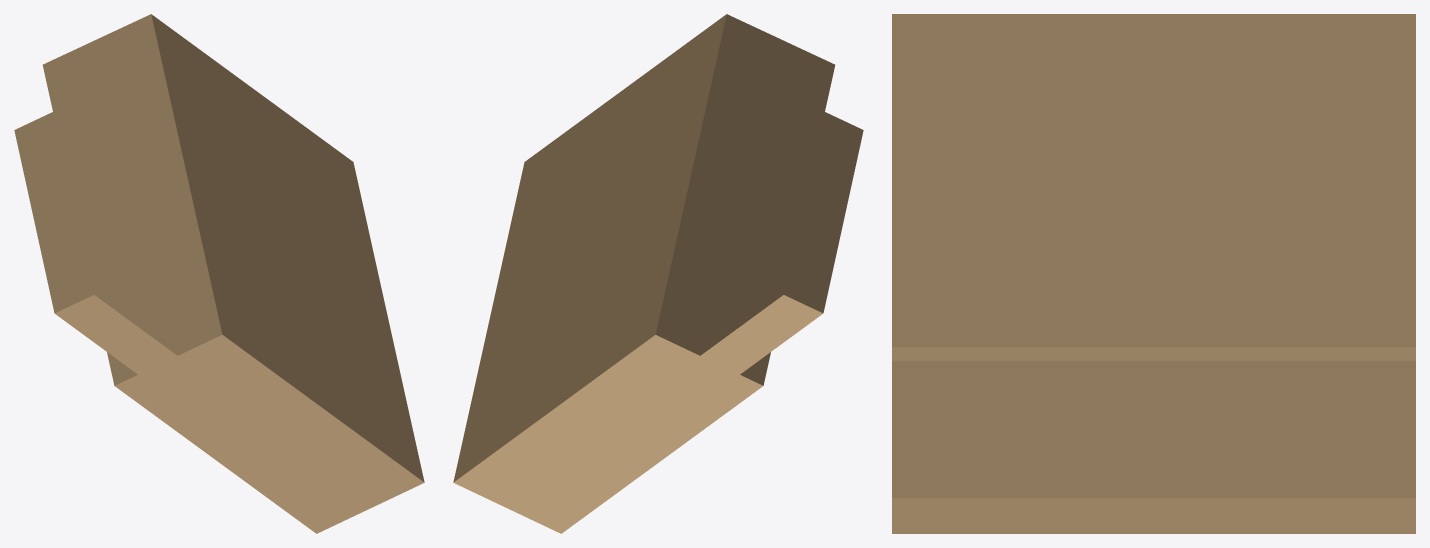
3 renders of one model, left to right at view 1: azimuth 30°, elevation 25°; view 2: azimuth 150°, elevation 25°; view 3: azimuth 270°, elevation 25°, orthographic. The views are drawn at different scales.
Parts seen in each view (by area): view 1: 0_3_2_3_2_1_1_2_0; view 2: 0_3_2_3_2_1_1_2_0; view 3: 0_3_2_3_2_1_1_2_0.
Boxes of the visible parts, x1=… form: 0_3_2_3_2_1_1_2_0: x1=14, y1=14, x2=424, y2=533; 0_3_2_3_2_1_1_2_0: x1=453, y1=14, x2=863, y2=533; 0_3_2_3_2_1_1_2_0: x1=892, y1=14, x2=1415, y2=533.
Bounding box in the file's own units: 16.04 × 26.73 × 27.
